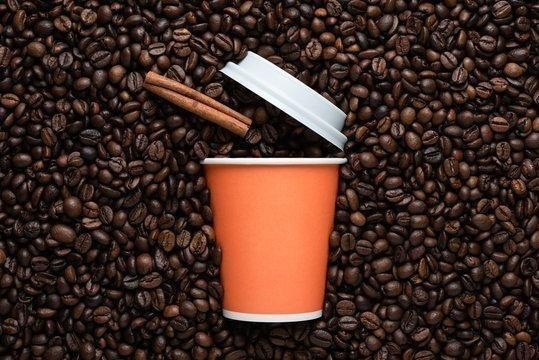cup-disposable: (200, 151, 353, 331)
